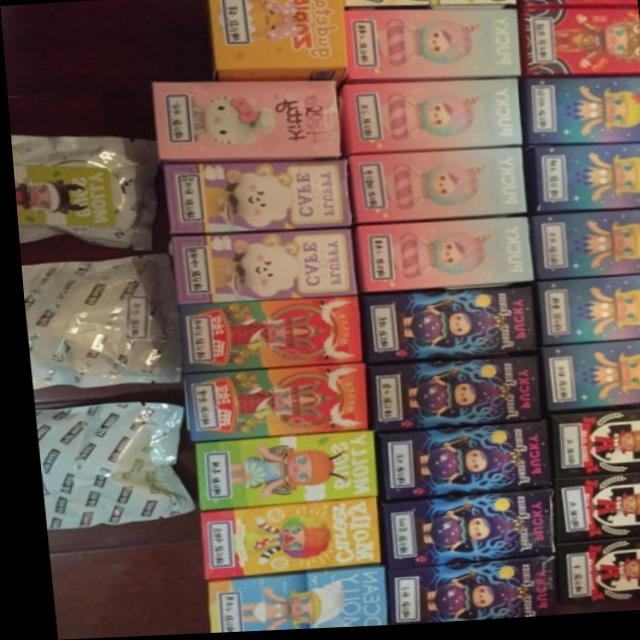box: (151, 82, 340, 163), (191, 500, 372, 582), (159, 160, 347, 236), (176, 365, 360, 442), (188, 433, 369, 511), (175, 298, 357, 374), (359, 358, 540, 434), (368, 426, 544, 504), (168, 230, 351, 305), (337, 82, 520, 156), (351, 221, 530, 296), (345, 152, 524, 226), (355, 291, 533, 365), (372, 492, 546, 566), (343, 12, 518, 85), (197, 568, 378, 635), (206, 0, 348, 83), (377, 561, 547, 628), (517, 11, 640, 81), (521, 148, 640, 220), (518, 82, 640, 149), (526, 215, 640, 285), (530, 280, 640, 349), (535, 346, 640, 415), (541, 412, 640, 483), (546, 477, 640, 548), (546, 543, 640, 613)
